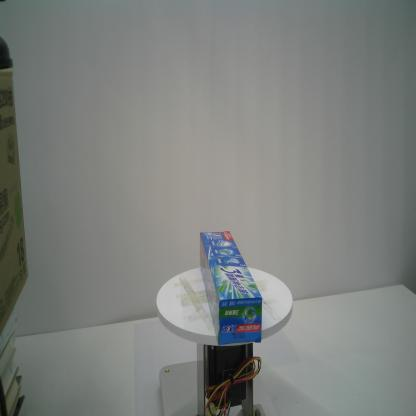Personal Hygiene: (199, 230, 263, 348)
